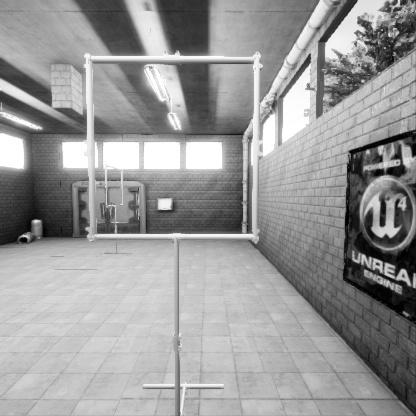gate: (86, 182, 277, 372), (105, 210, 123, 253)
